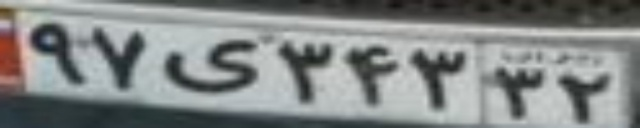2: (556, 69, 617, 122)
3: (405, 47, 466, 109), (274, 40, 333, 103), (488, 65, 545, 117)
4: (341, 44, 398, 108)
7: (89, 24, 146, 89)
9: (25, 22, 85, 85)
he: (162, 38, 264, 95)
